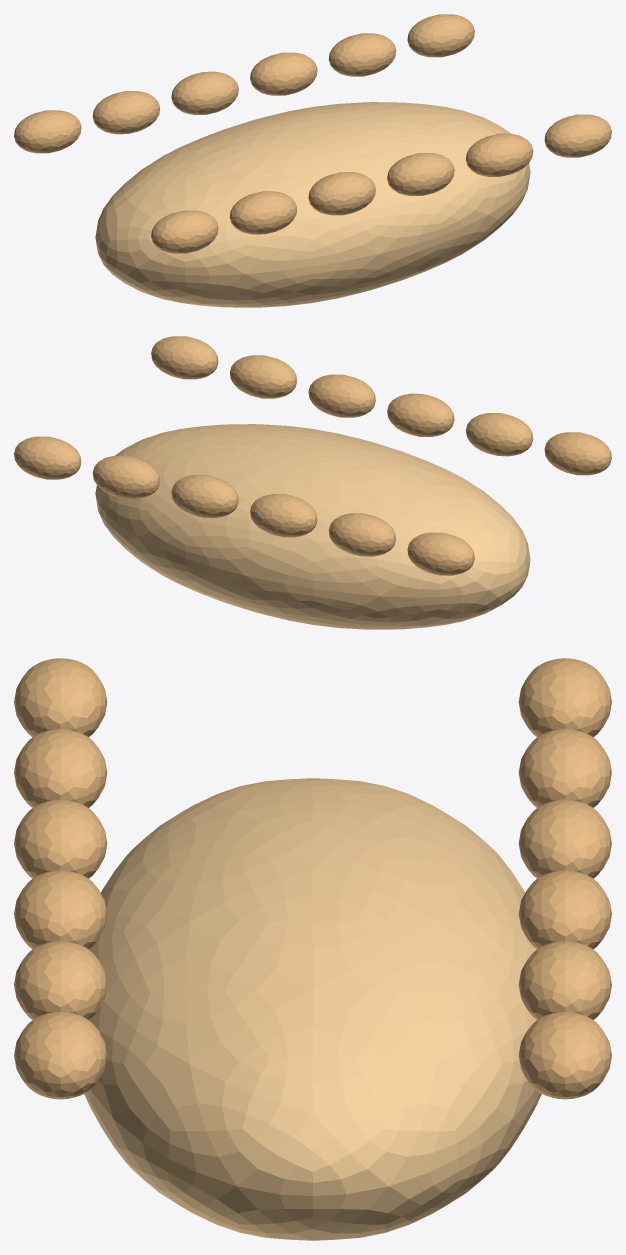
The model's file is pastel.glb.
The picture shows the model from 3 angles, top to bottom: view 1: azimuth 30°, elevation 25°; view 2: azimuth 150°, elevation 25°; view 3: azimuth 270°, elevation 25°; orthographic projection. The views are drawn at different scales.
Parts seen in each view (by area): view 1: Pastel; view 2: Pastel; view 3: Pastel.
Boxes of the visible parts, x1=… form: Pastel: x1=14, y1=14, x2=611, y2=307; Pastel: x1=14, y1=336, x2=611, y2=629; Pastel: x1=14, y1=658, x2=611, y2=1240.
Bounding box in the file's own units: 0.6723 × 0.233 × 0.4147.
